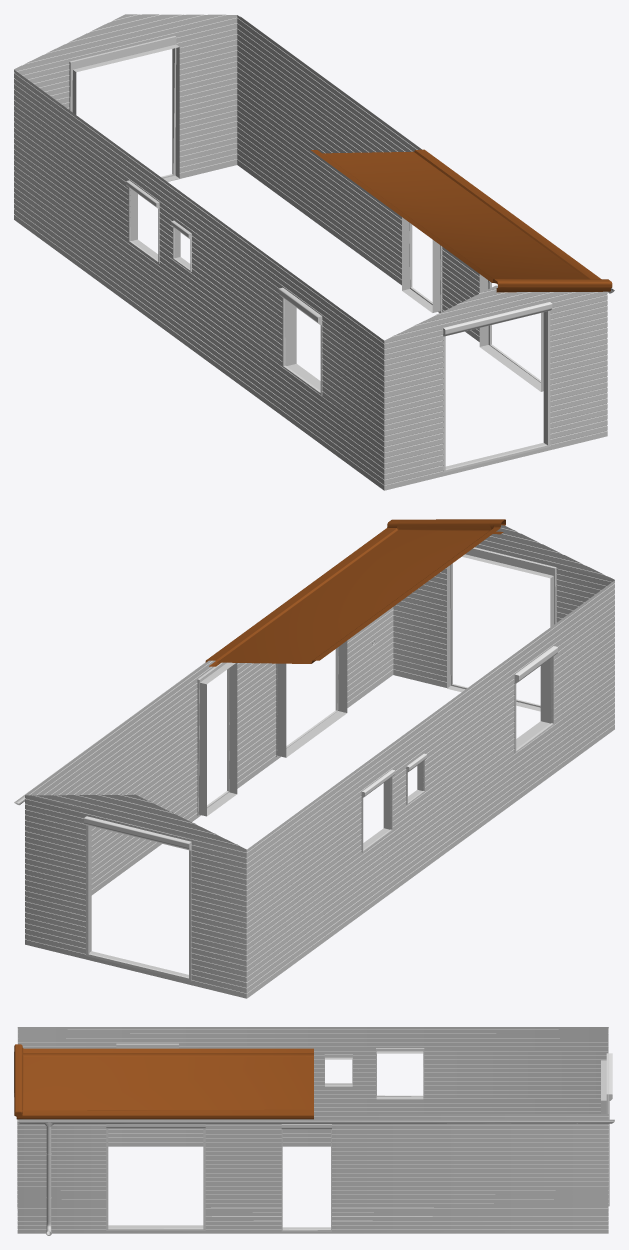
File: Mobilehouses.gltf
3 views of the same model, one above another, from view 1: azimuth 30°, elevation 25°; view 2: azimuth 150°, elevation 25°; view 3: azimuth 270°, elevation 25° (orthographic). The views are drawn at different scales.
Visible parts, largest first — view 1: MainConstr, RoofL_low, WinProt; view 2: MainConstr, RoofL_low, WinProt; view 3: MainConstr, RoofL_low, WinProt, RoofTube.
Boxes of the visible parts, left/top/right/bottom form: MainConstr: left=14, top=14, right=607, bottom=490; RoofL_low: left=311, top=149, right=612, bottom=292; WinProt: left=69, top=36, right=552, bottom=472; MainConstr: left=25, top=525, right=614, bottom=998; RoofL_low: left=205, top=519, right=505, bottom=666; WinProt: left=84, top=547, right=557, bottom=981; MainConstr: left=17, top=1027, right=608, bottom=1233; RoofL_low: left=14, top=1044, right=313, bottom=1119; WinProt: left=14, top=1043, right=612, bottom=1231; RoofTube: left=17, top=1119, right=614, bottom=1235.
Bounding box in the file's own units: 3.81 × 2.74 × 10.22.
